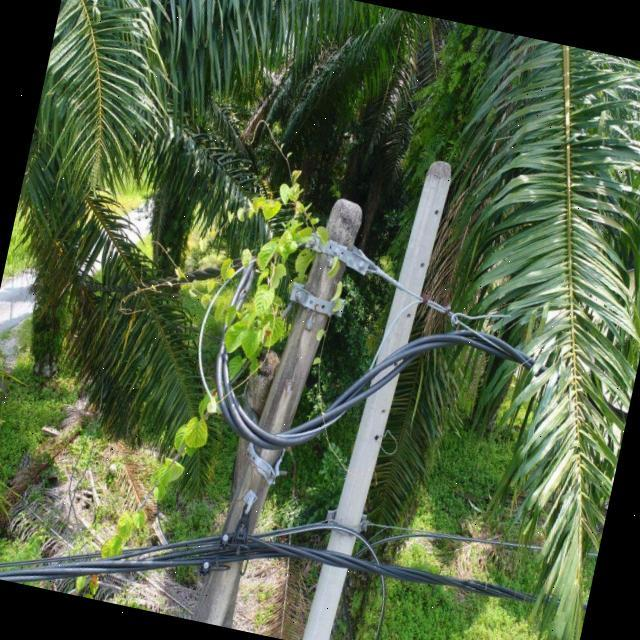critical vegetation: (58, 144, 370, 633)
